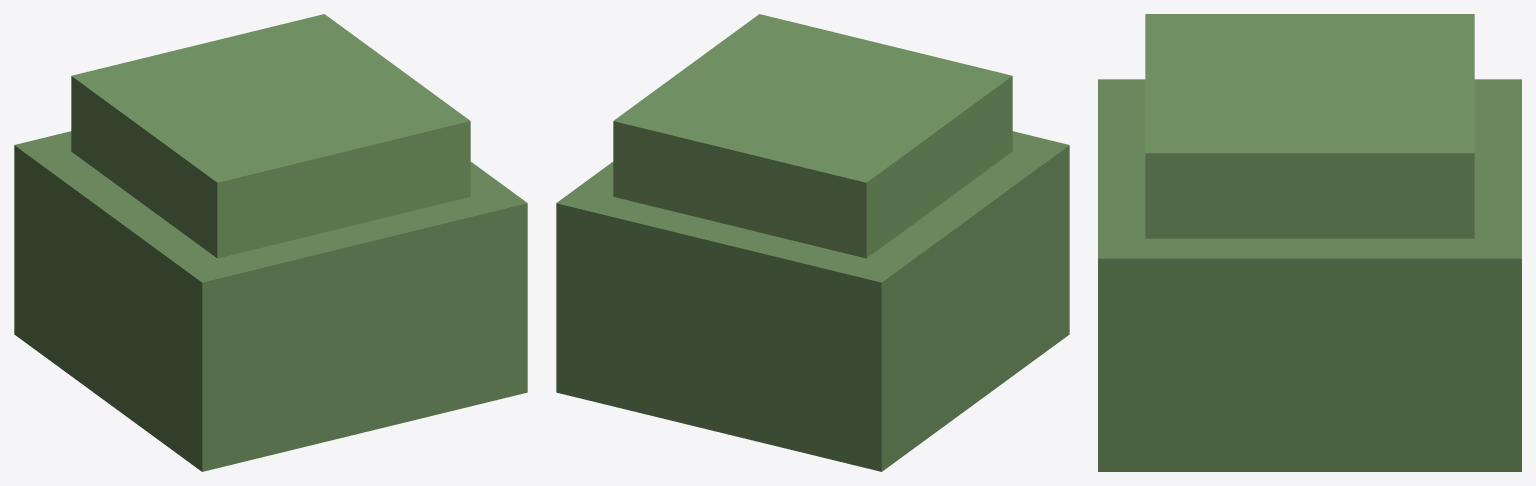
Rendered from serbal_02.glb.
3 renders of one model, left to right at view 1: azimuth 30°, elevation 25°; view 2: azimuth 150°, elevation 25°; view 3: azimuth 270°, elevation 25°, orthographic. The views are drawn at different scales.
Parts seen in each view (by area): view 1: serbal_02; view 2: serbal_02; view 3: serbal_02.
Part boxes in pixels (bbox=[...]): serbal_02: bbox=[14, 14, 527, 471]; serbal_02: bbox=[556, 14, 1069, 471]; serbal_02: bbox=[1098, 14, 1521, 471].
Size of the model in its own units: 0.9 by 0.7 by 0.9.
